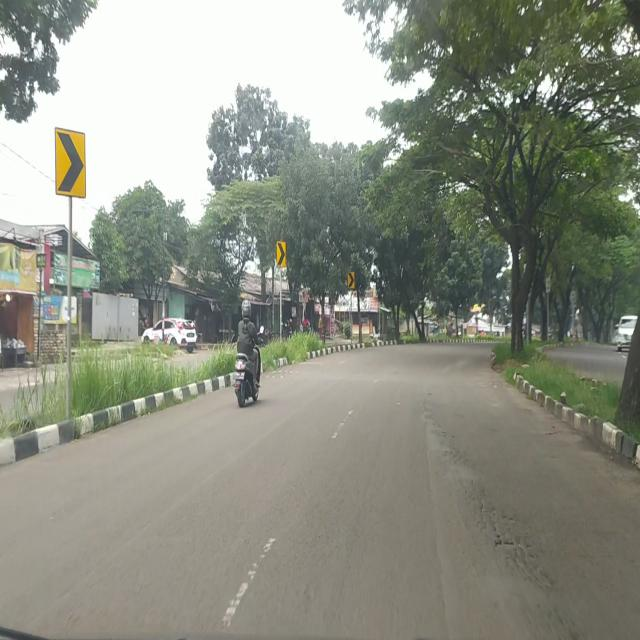Drain Hole: (444, 437, 563, 632)
